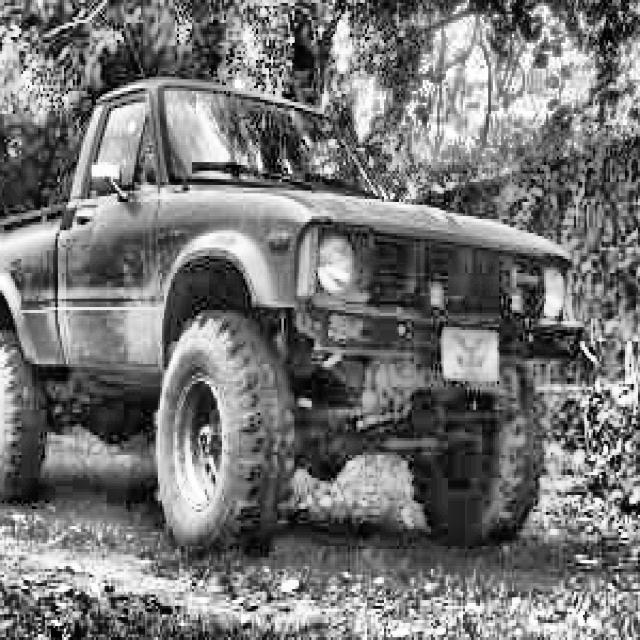light_vehicle: (0, 62, 591, 578)
